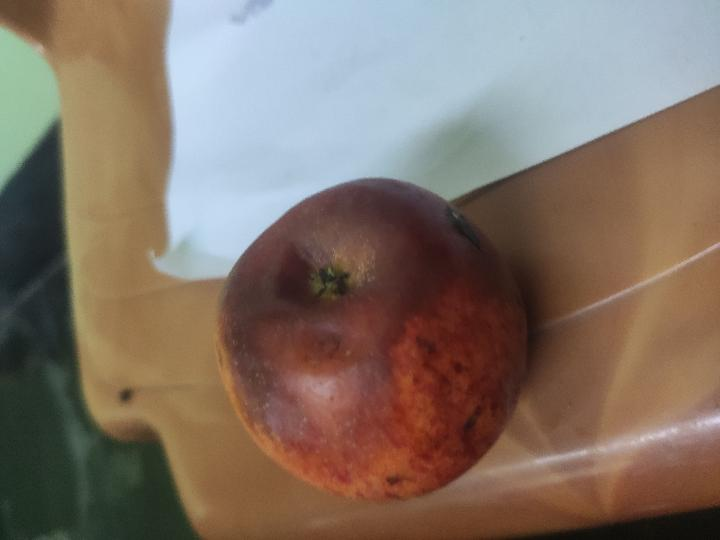apple: (215, 178, 527, 500)
bruise_discoloration: (216, 179, 503, 455)
rot_mold_decay: (445, 206, 481, 251)
